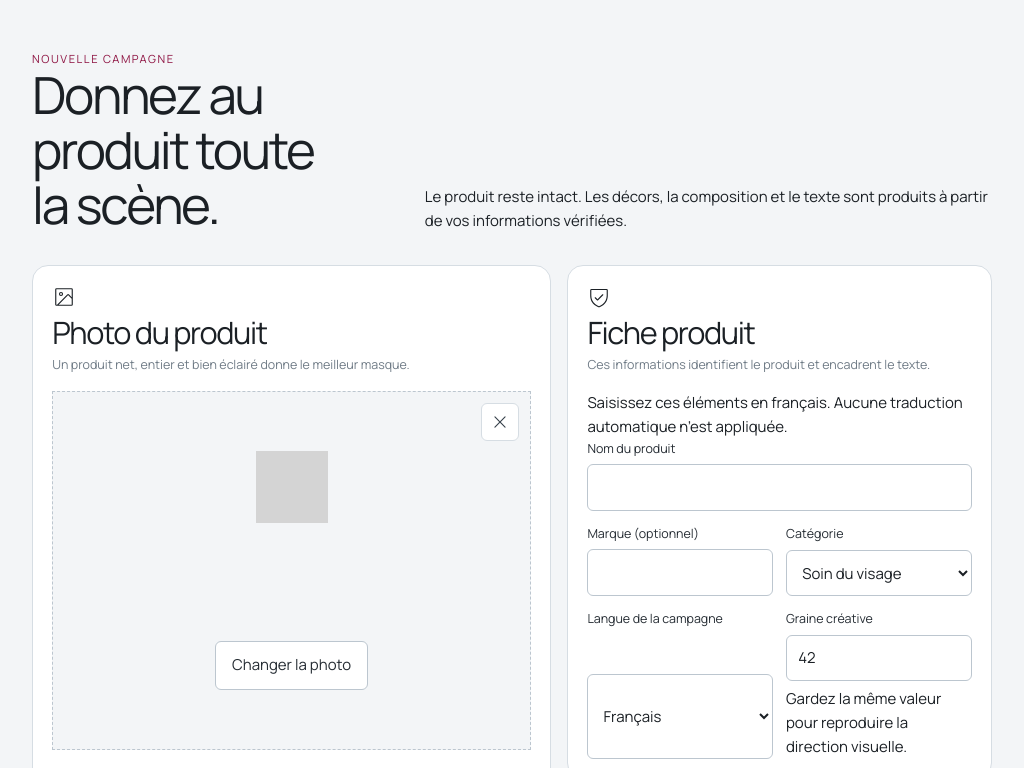
campaign creation › rejects decimal seeds instead of silently truncating them
Earlier steps of the test are not shown.
Type "Sérum perle" into the field labelled "Nom du produit" at {"x": 780, "y": 488}, box 587,464 -> 972,511
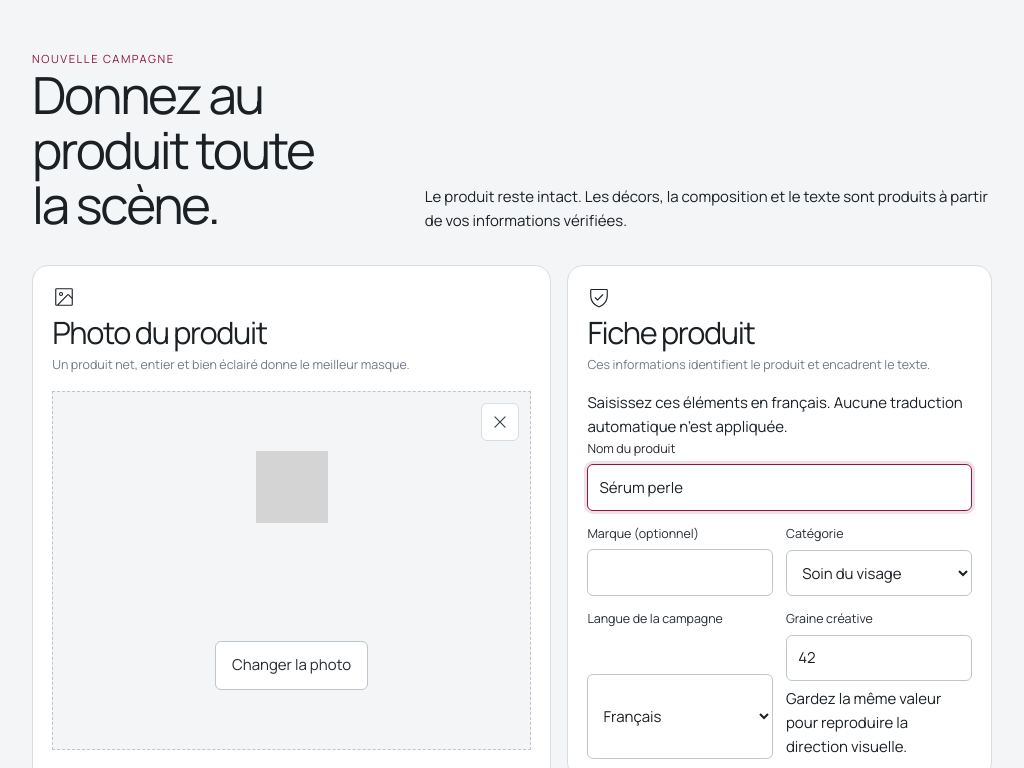
Replace the text in the number field labelled "Graine créative" with "1.2" at {"x": 879, "y": 658}, box 786,634 -> 972,681
(page scrolled)
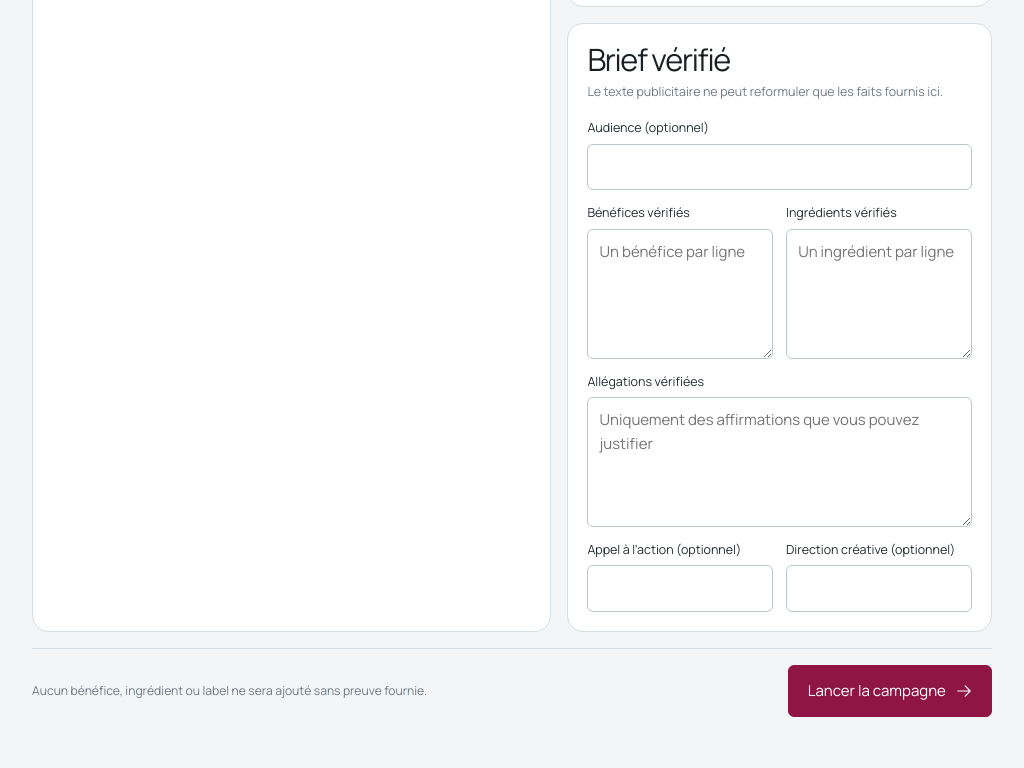
Click the button "Lancer la campagne" at {"x": 890, "y": 691}, box 788,665 -> 992,717
(page scrolled)
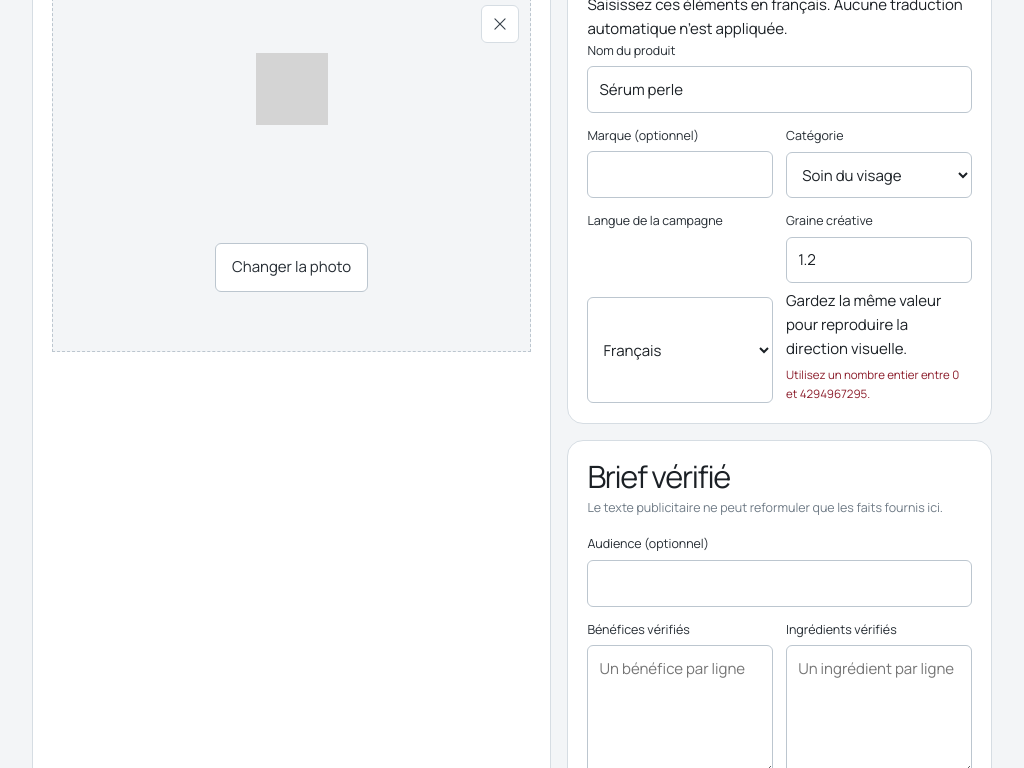
Expected: the text "Utilisez un nombre entier entre 0 et 4294967295." is shown, 786,366 -> 972,403
